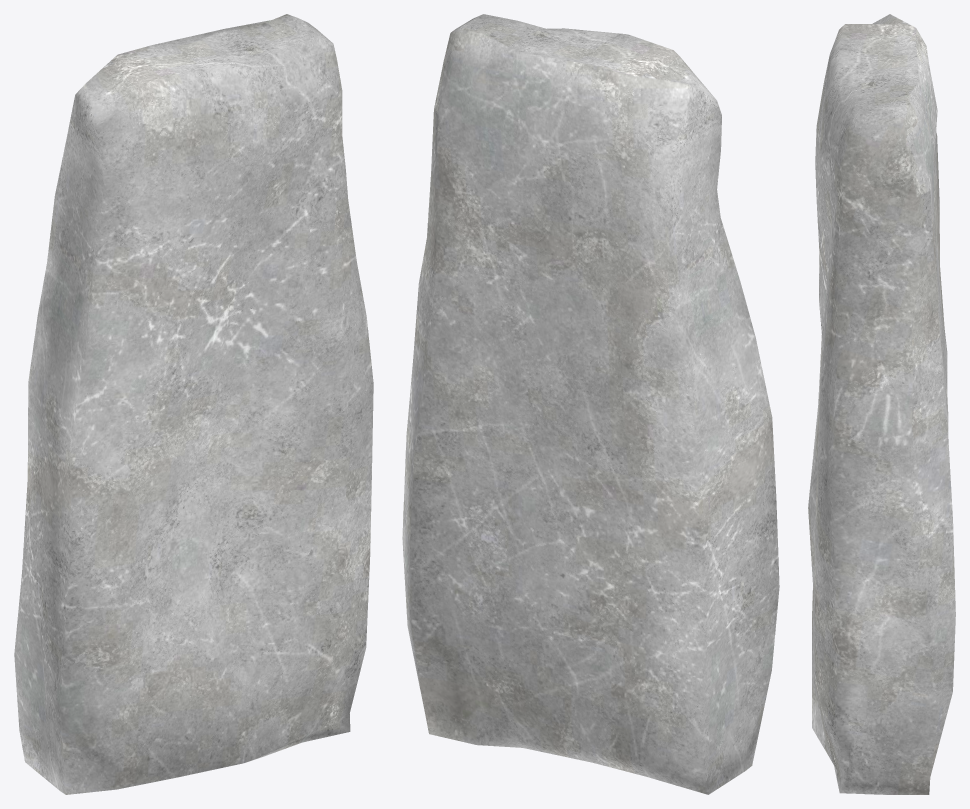
File: Masso_01.FBX
3 views of the same model, side by side, from view 1: azimuth 30°, elevation 25°; view 2: azimuth 150°, elevation 25°; view 3: azimuth 270°, elevation 25° (orthographic). The views are drawn at different scales.
Visible parts, largest first — view 1: masso_01; view 2: masso_01; view 3: masso_01.
Part boxes in pixels (bbox=[...]): masso_01: bbox=[14, 14, 373, 794]; masso_01: bbox=[402, 14, 779, 794]; masso_01: bbox=[808, 14, 955, 794].
Bounding box in the file's own units: 1.88 × 3.89 × 0.767.
Materials: 1 (1 with a texture image).
